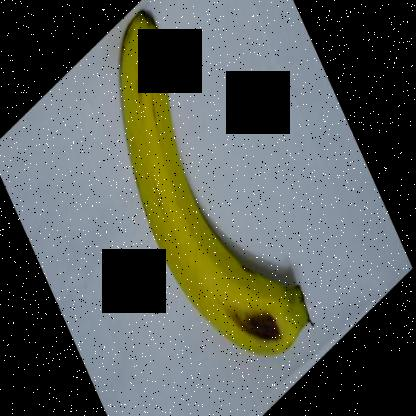freshripe: (99, 2, 336, 370)
